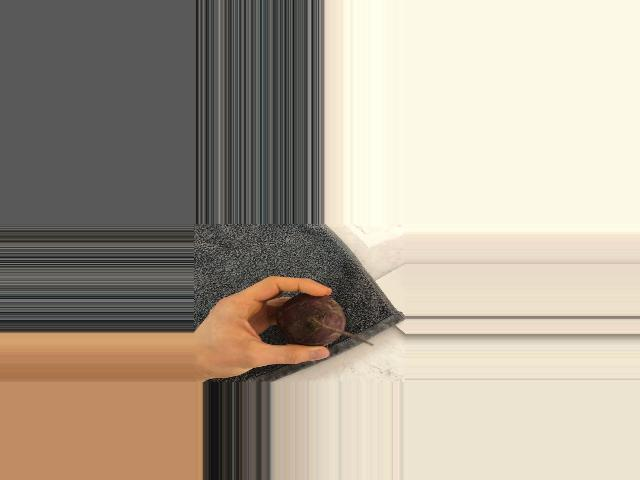beet: (277, 293, 374, 346)
